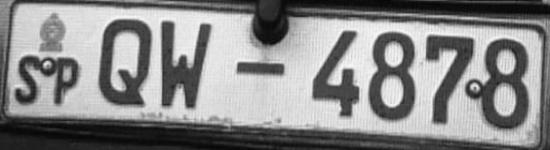-: (230, 57, 288, 80)
4: (308, 26, 365, 123)
7: (423, 29, 479, 132)
8: (480, 34, 537, 132), (368, 24, 421, 127)
P: (47, 53, 86, 107)
Q: (97, 9, 155, 112)
S: (14, 54, 45, 108)
W: (157, 14, 218, 112)
